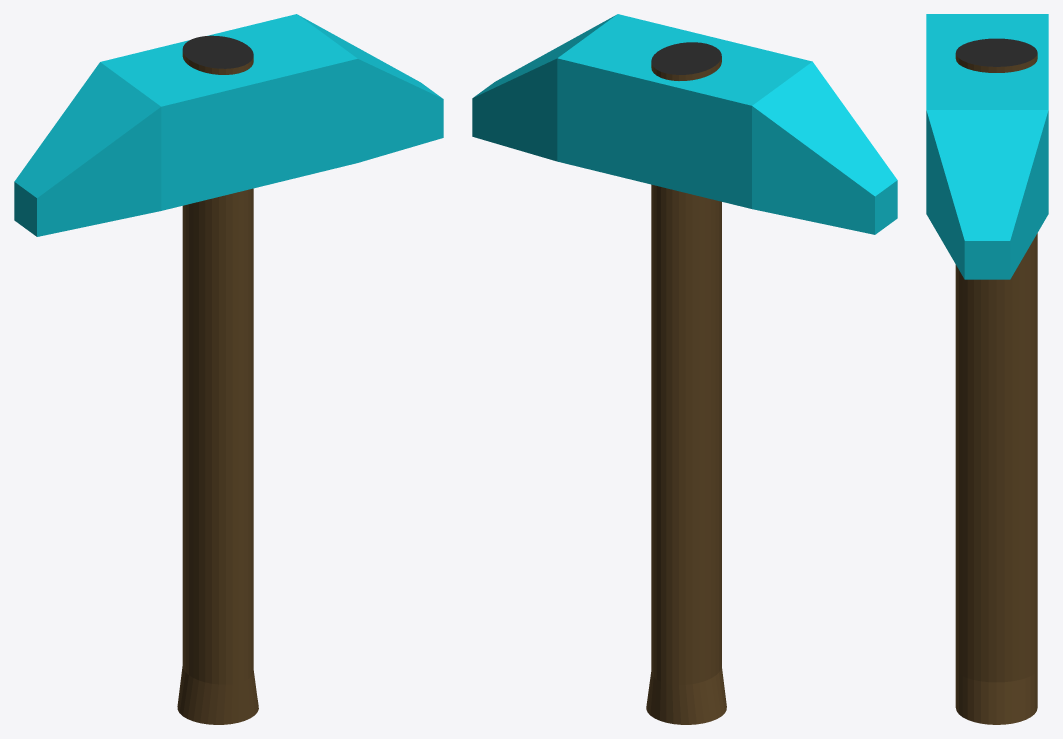
Rendered from pickaxe.fbx.
3 renders of one model, left to right at view 1: azimuth 30°, elevation 25°; view 2: azimuth 150°, elevation 25°; view 3: azimuth 270°, elevation 25°, orthographic.
Parts seen in each view (by area): view 1: Cube, Cylinder; view 2: Cube, Cylinder; view 3: Cylinder, Cube.
Boxes of the visible parts, left/top/right/bottom form: Cube: left=14, top=14, right=443, bottom=236; Cylinder: left=177, top=35, right=258, bottom=724; Cube: left=472, top=14, right=897, bottom=234; Cylinder: left=646, top=42, right=726, bottom=724; Cylinder: left=955, top=38, right=1037, bottom=724; Cube: left=926, top=14, right=1048, bottom=279.
Bounding box in the file's own units: 224 × 345 × 58.38.
